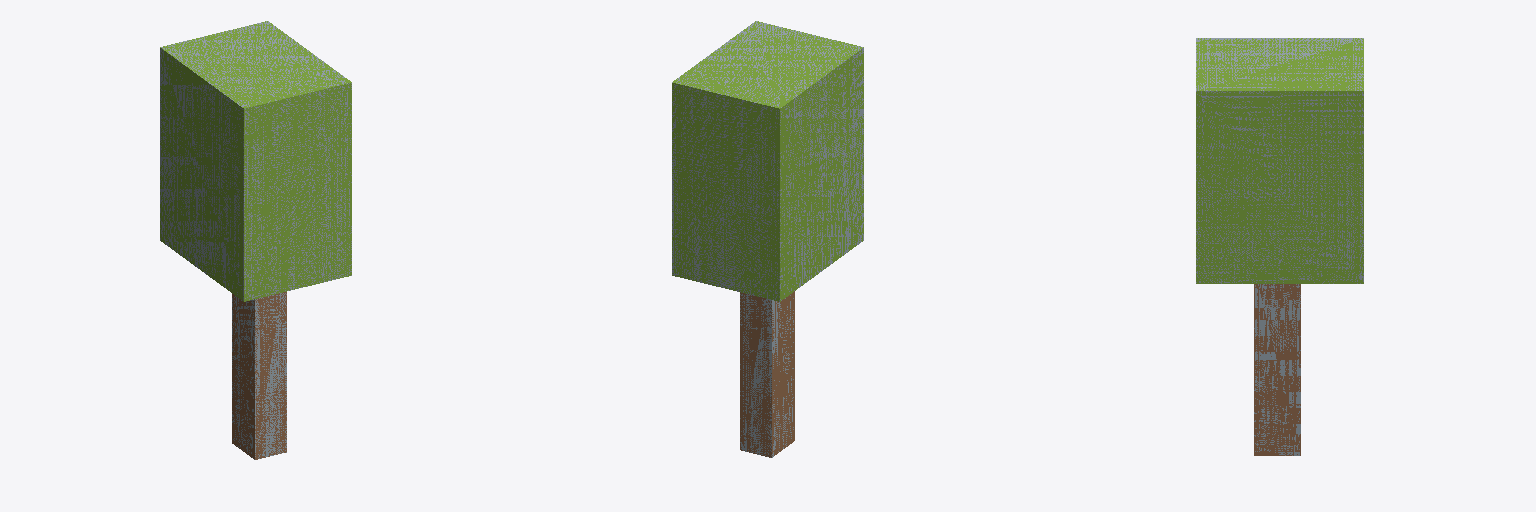
3 renders of one model, left to right at view 1: azimuth 30°, elevation 25°; view 2: azimuth 150°, elevation 25°; view 3: azimuth 270°, elevation 25°, orthographic.
Visible parts, largest first — view 1: Mesh1 Model; view 2: Mesh1 Model; view 3: Mesh1 Model.
Boxes of the visible parts, <box> form: Mesh1 Model: <box>160,21,351,459</box>; Mesh1 Model: <box>672,21,863,457</box>; Mesh1 Model: <box>1196,38,1363,455</box>.
Size of the model in its own units: 0.777 by 2.62 by 1.05.
Materials: 3 (2 with a texture image).